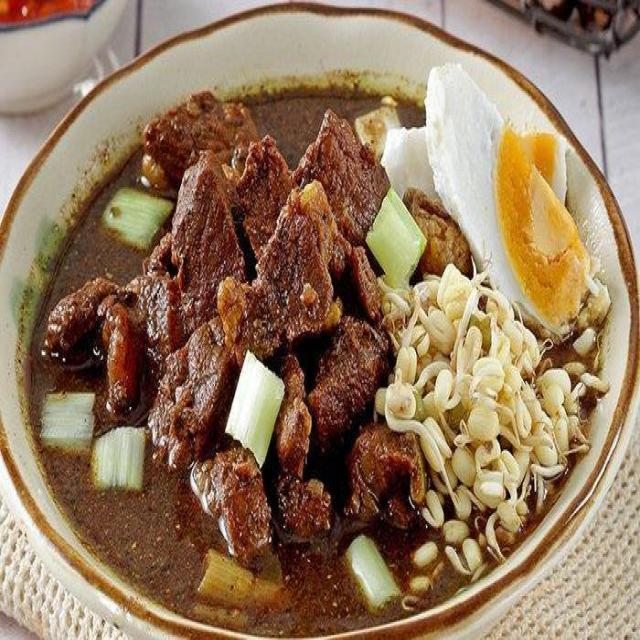Rawon: (10, 74, 562, 602)
